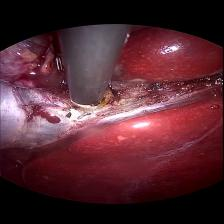Hook: (68, 90, 108, 120)
